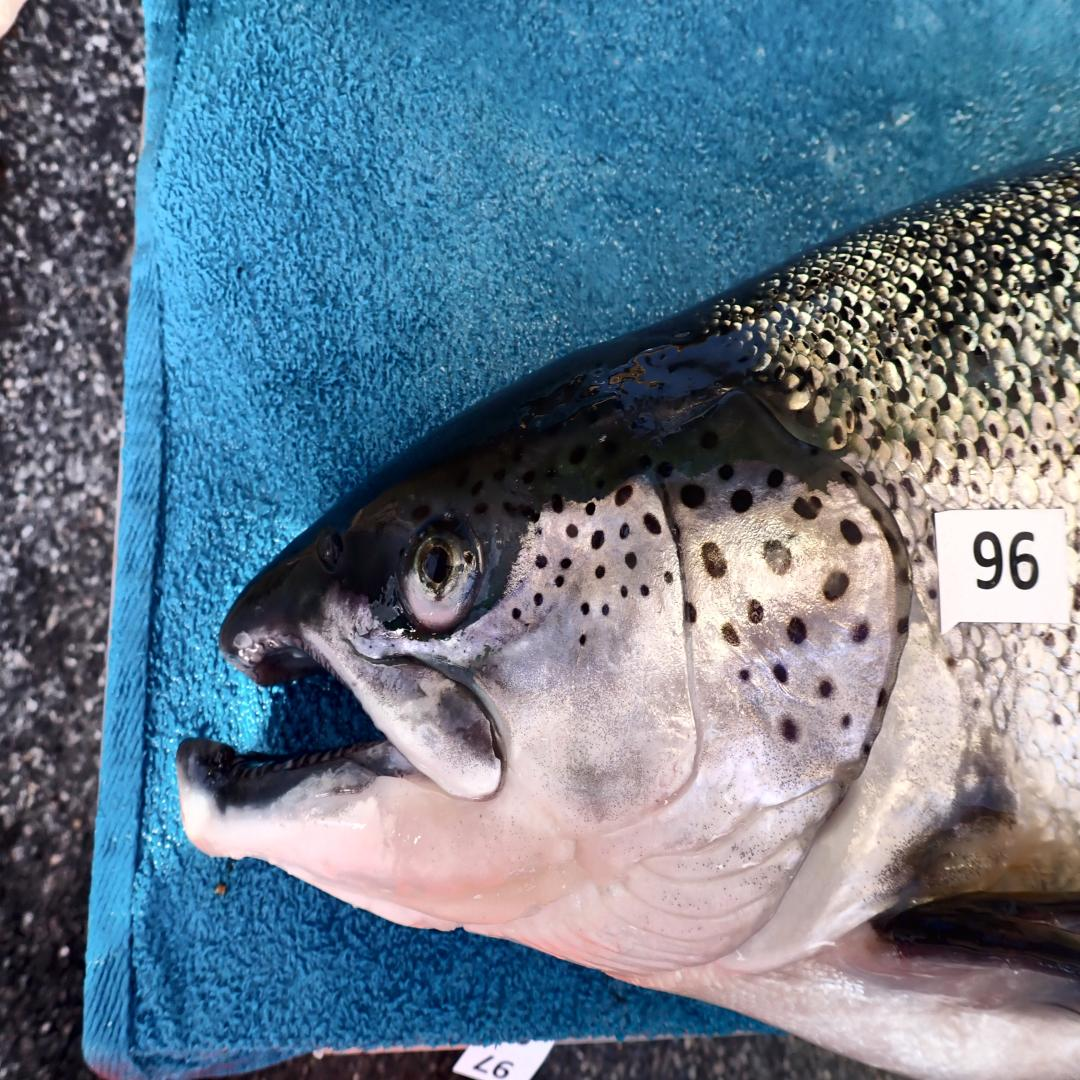spot: (702, 543, 728, 579), (764, 540, 791, 574), (823, 571, 850, 602), (793, 495, 823, 520), (681, 482, 705, 509), (840, 520, 863, 546), (730, 489, 753, 515), (787, 616, 808, 644), (780, 717, 797, 742), (748, 599, 764, 624), (616, 484, 633, 506), (721, 624, 738, 645), (852, 622, 869, 642), (643, 515, 660, 534), (768, 469, 784, 489), (684, 603, 697, 624), (591, 529, 605, 548), (657, 461, 673, 477), (719, 464, 734, 481), (774, 664, 787, 683), (841, 471, 856, 486), (624, 551, 637, 568), (819, 681, 832, 698), (877, 688, 888, 708), (897, 616, 909, 634), (551, 495, 563, 512), (565, 523, 578, 537), (535, 555, 548, 569), (738, 668, 750, 683), (560, 557, 572, 570), (595, 565, 605, 579), (580, 602, 590, 616), (640, 585, 650, 598), (620, 523, 629, 537), (664, 571, 673, 585), (534, 593, 543, 607), (511, 609, 522, 620), (555, 574, 564, 587), (862, 743, 871, 756), (586, 503, 595, 515), (578, 634, 587, 646), (620, 585, 627, 598), (602, 603, 609, 615), (842, 716, 849, 726)
